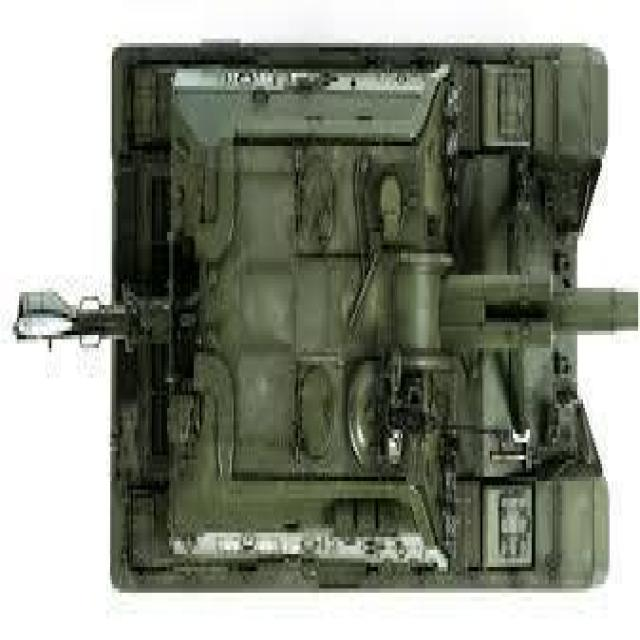Tanks: (37, 34, 618, 602)
